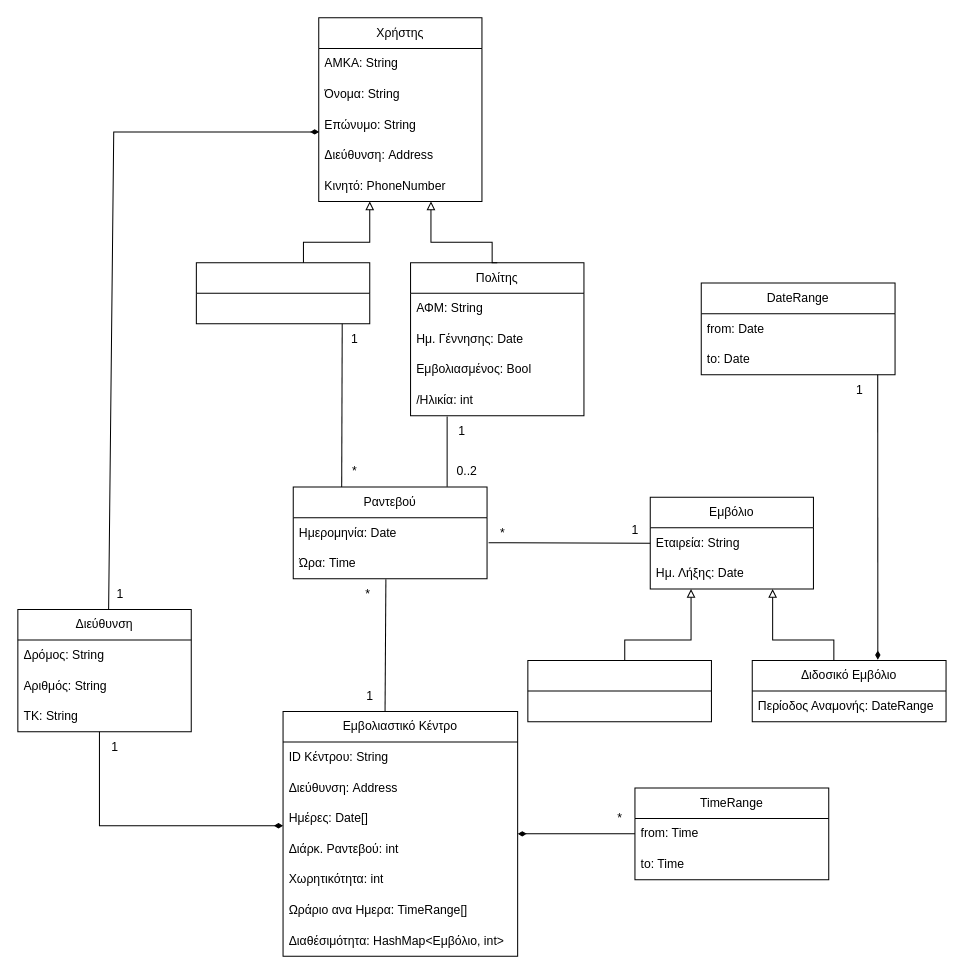
This 964x974 diagram has some shape labels left out. Here are the shapes that lost their labels. From the top down, the centre of each, then its label:
At point 282,293: "Γιατρός".
At point 619,690: "Μονοδοσικό Εμβόλιο".
